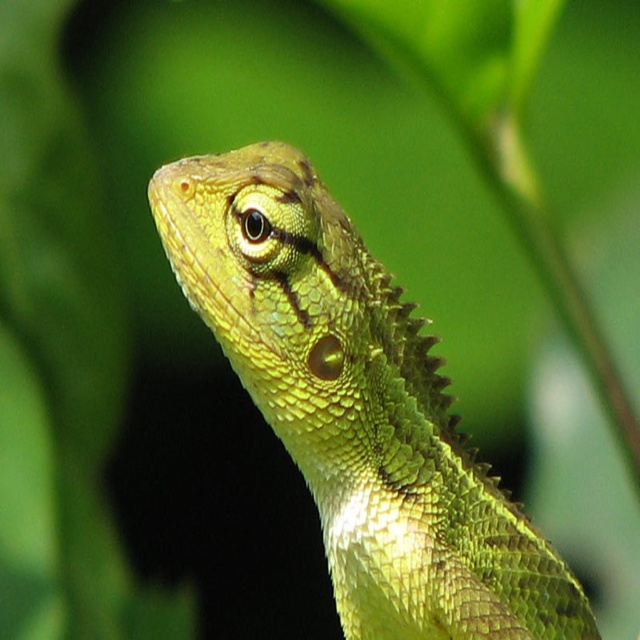Lizard: (145, 138, 604, 640)
